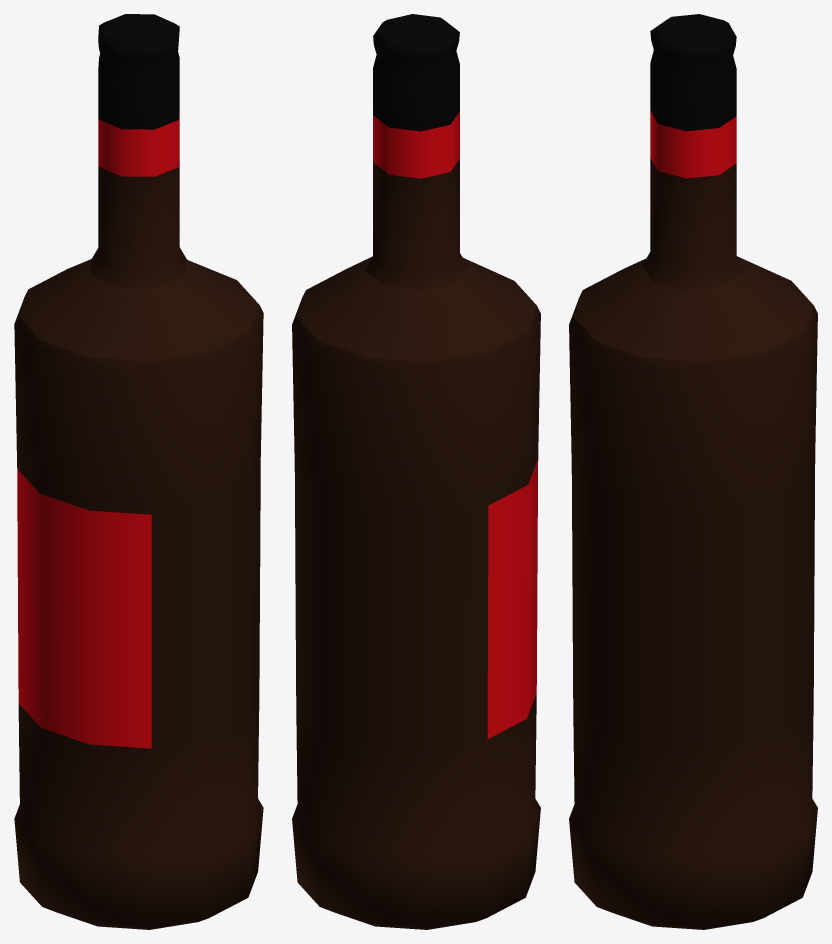
File: Brown.fbx
The picture shows the model from 3 angles, left to right: view 1: azimuth 30°, elevation 25°; view 2: azimuth 150°, elevation 25°; view 3: azimuth 270°, elevation 25°; orthographic projection.
Visible parts, largest first — view 1: Brown; view 2: Brown; view 3: Brown.
Part boxes in pixels (x1=…): Brown: x1=14, y1=14, x2=263, y2=929; Brown: x1=292, y1=14, x2=540, y2=929; Brown: x1=569, y1=14, x2=817, y2=929.
Size of the model in its own units: 7.56 by 28.73 by 7.56.
